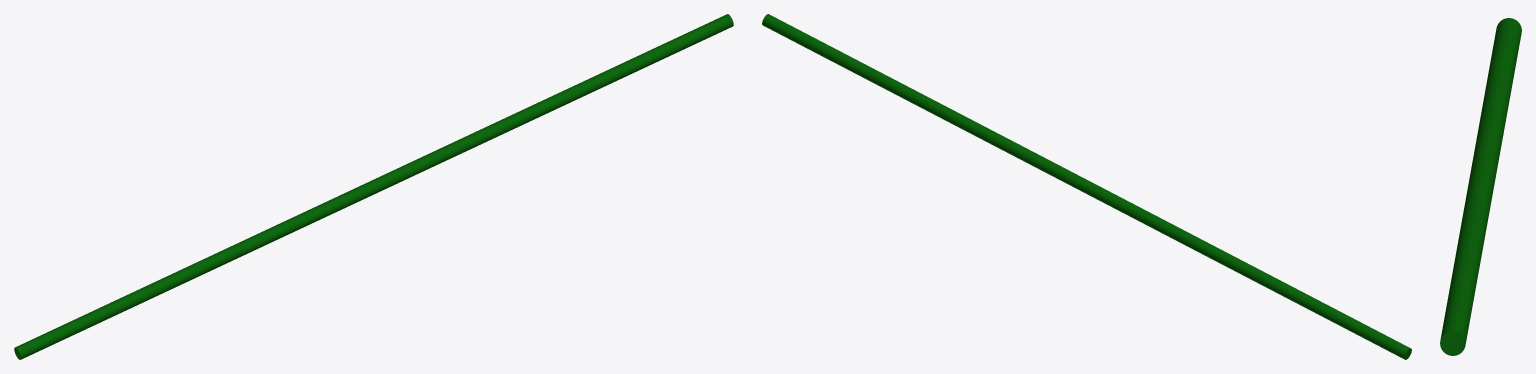
Rendered from Event_127732675_jet_3.fbx.
3 views of the same model, side by side, from view 1: azimuth 30°, elevation 25°; view 2: azimuth 150°, elevation 25°; view 3: azimuth 270°, elevation 25° (orthographic). The views are drawn at different scales.
Visible parts, largest first — view 1: Model; view 2: Model; view 3: Model.
Boxes of the visible parts, x1,y1,x2,y2 form: Model: [14, 14, 733, 359]; Model: [762, 14, 1411, 359]; Model: [1440, 18, 1521, 355].
Bounding box in the file's own units: 2.37 × 0.6016 × 0.1274.
